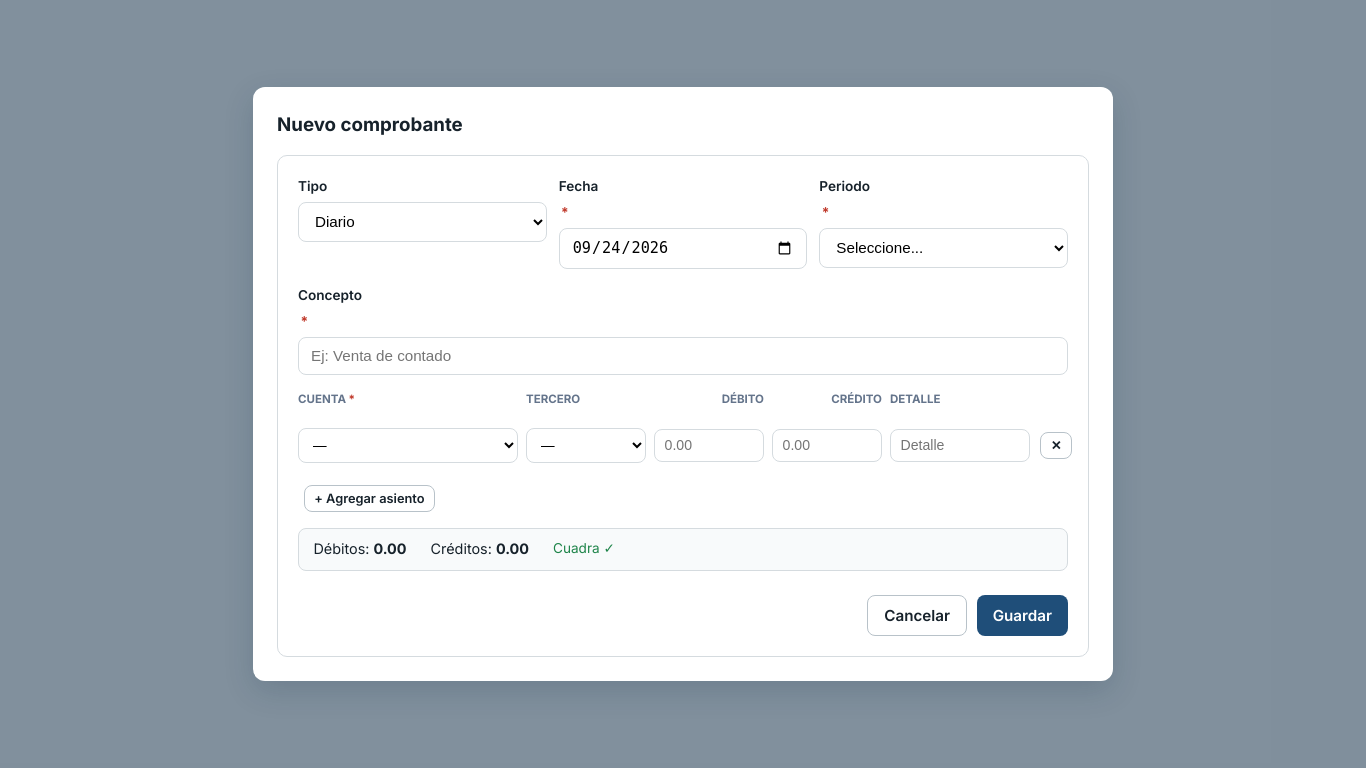
Scenario: ComprobanteForm › exige tercero cuando la cuenta lo requiere
Expected: the button "Guardar" is shown, 977,595 -> 1068,636
Select "2026-01" in the dropdown labelled "Periodo *" at (944, 248), box 819,228 -> 1068,268
Type "Venta" into the field labelled "Concepto *" at (683, 356), box 298,337 -> 1068,375
Select "1305 Clientes" in the 3rd dropdown at (408, 446), box 298,428 -> 518,463
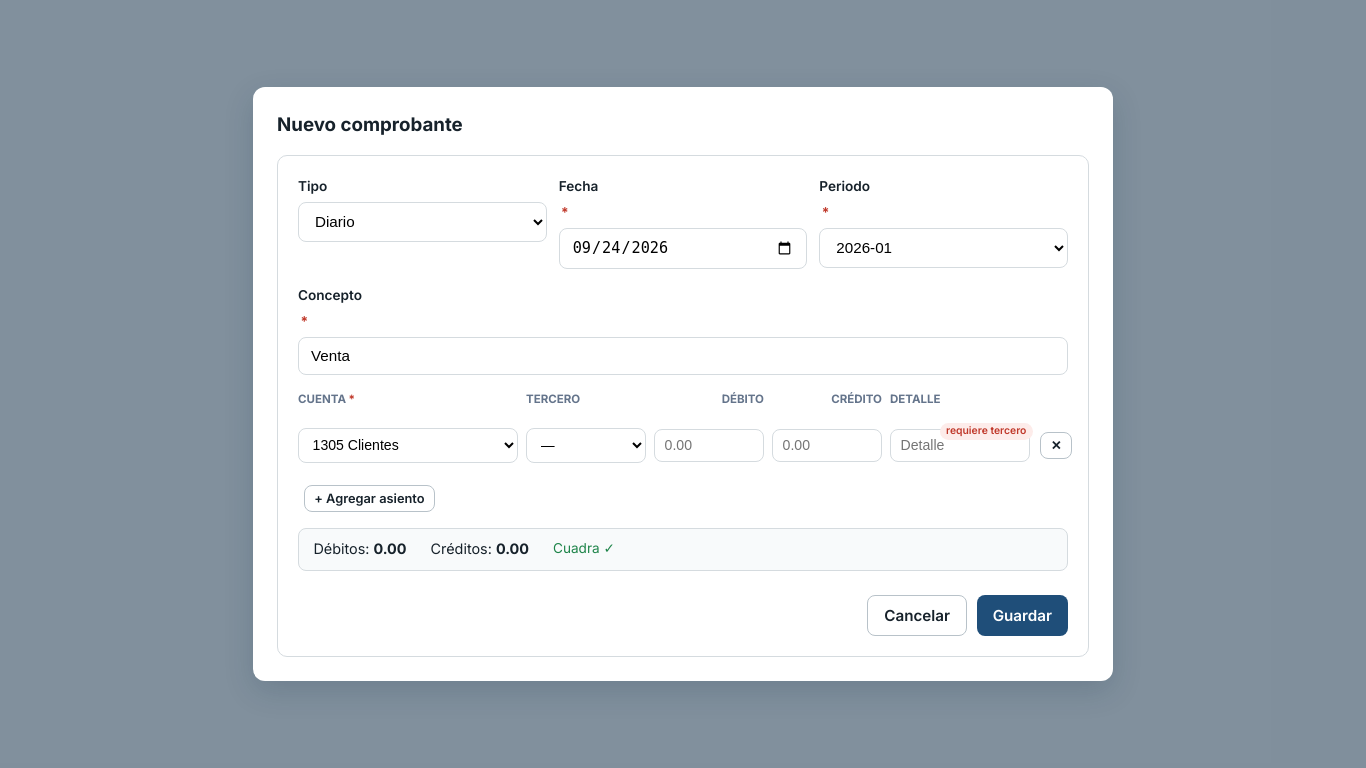
Type "100" into the 1st number field with placeholder "0.00" at (709, 446), box 654,429 -> 764,462
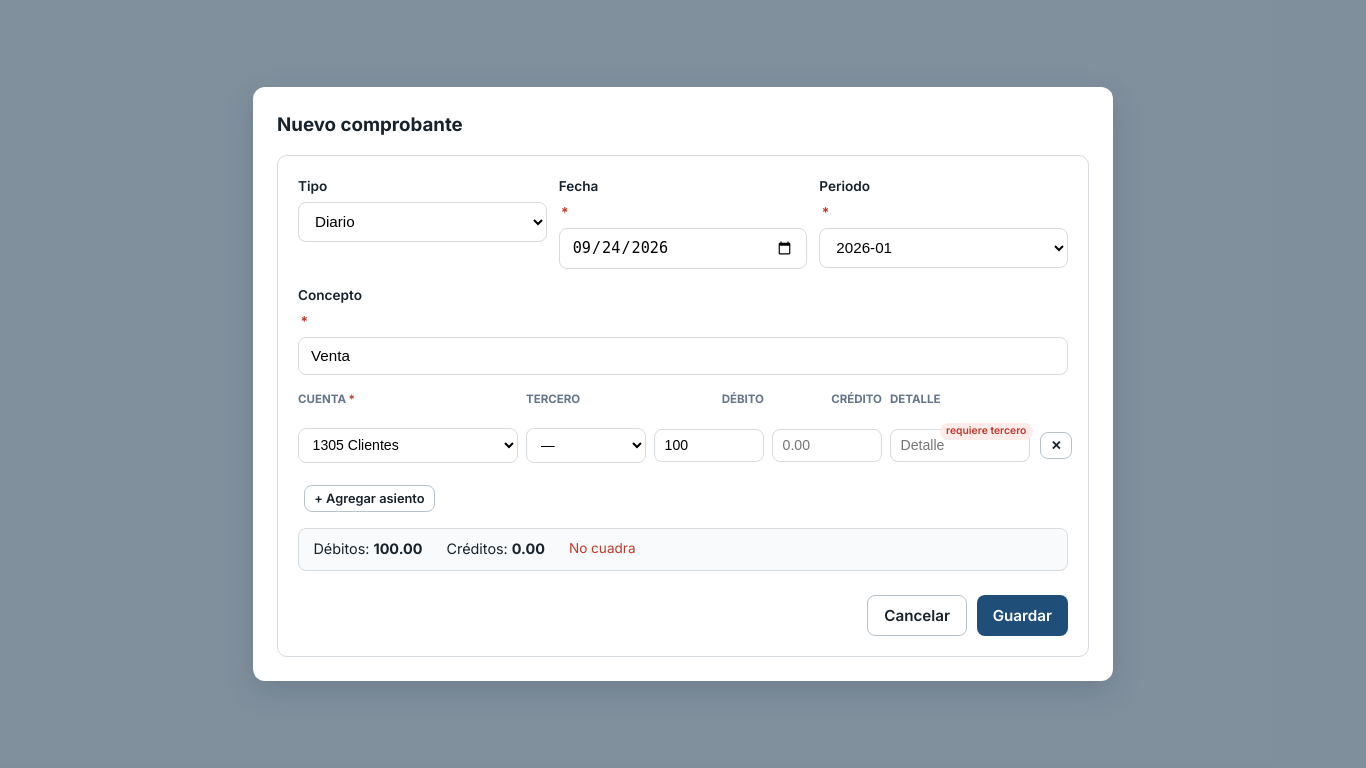
Click the button "+ Agregar asiento" at (369, 498), box 304,485 -> 435,512
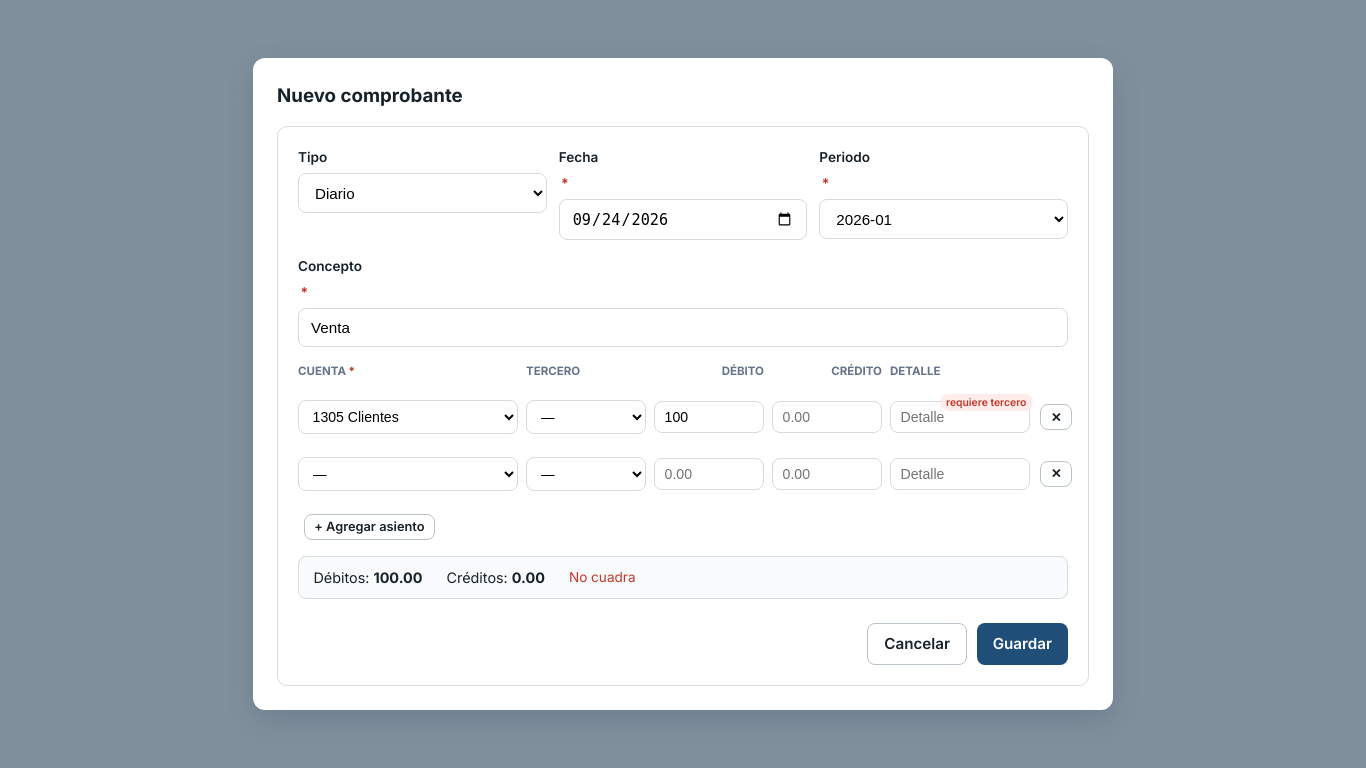
Select "1105 Caja" in the 5th dropdown at (408, 474), box 298,457 -> 518,491
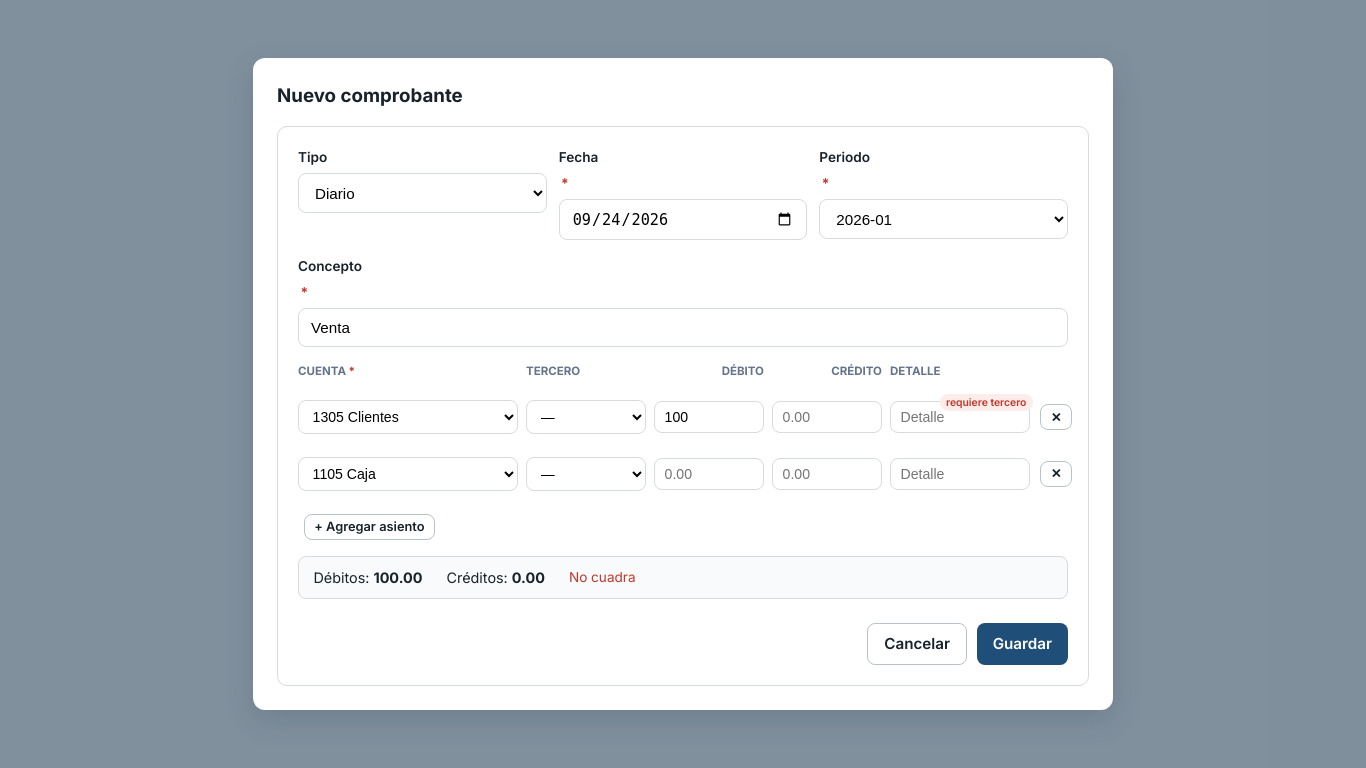
Type "100" into the 3rd number field with placeholder "0.00" at (827, 474), box 772,458 -> 882,490
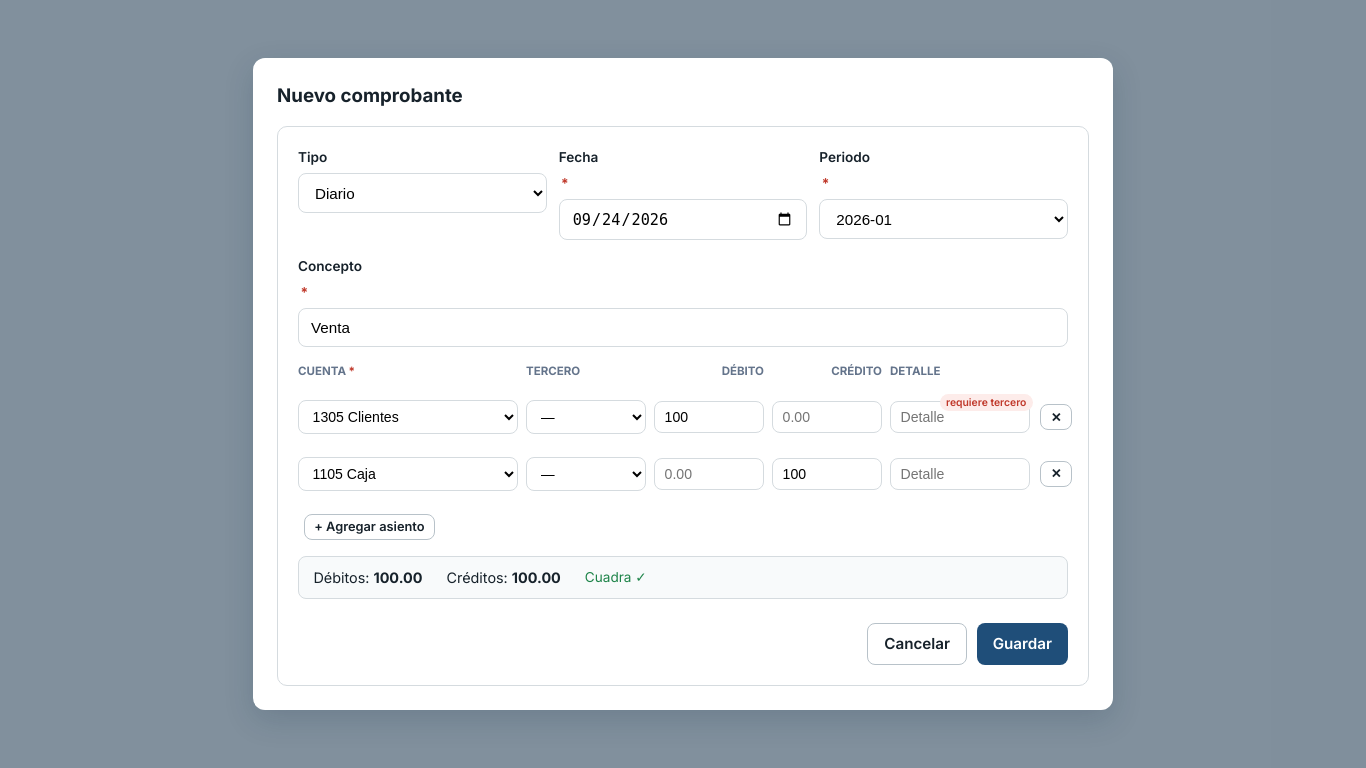
Click the button "Guardar" at (1022, 644), box 977,623 -> 1068,665
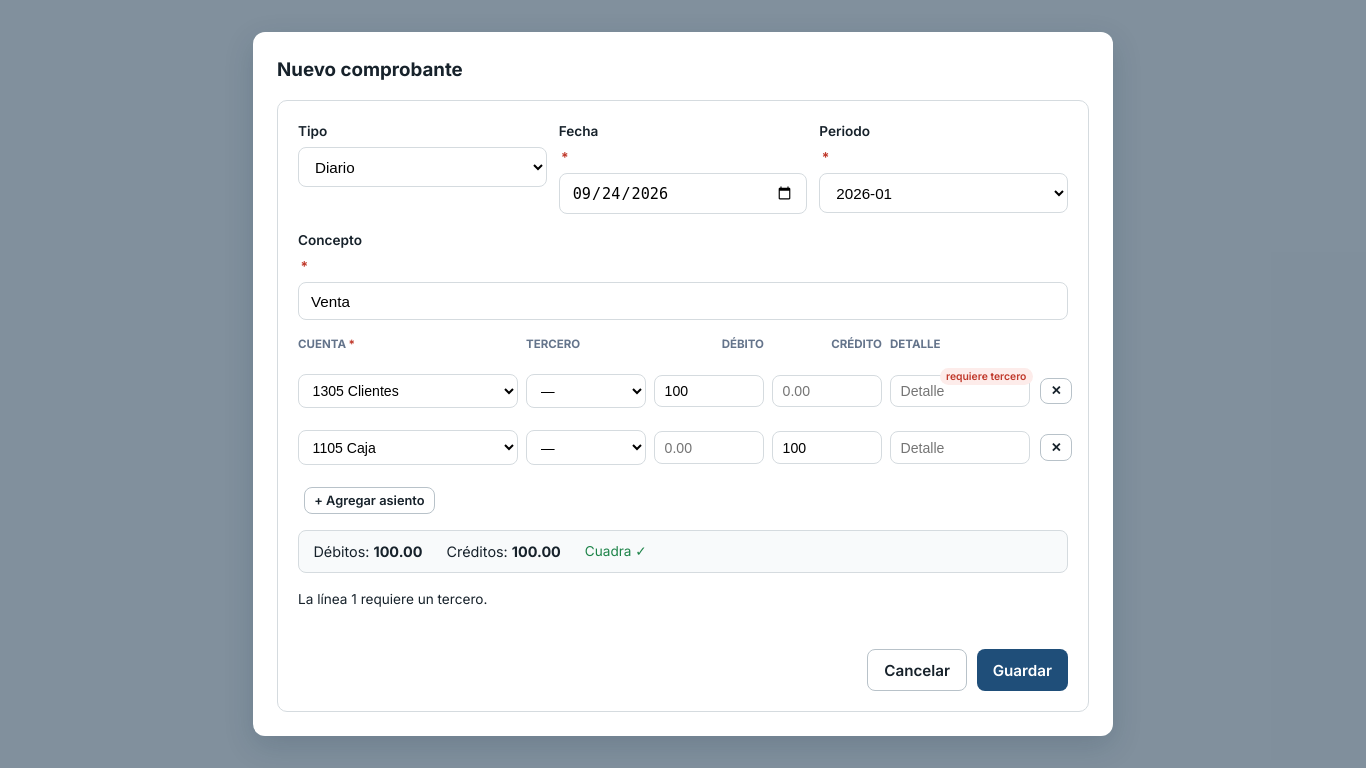
Result: the text "La línea 1 requiere un tercero." is shown at 298,591 -> 487,607
